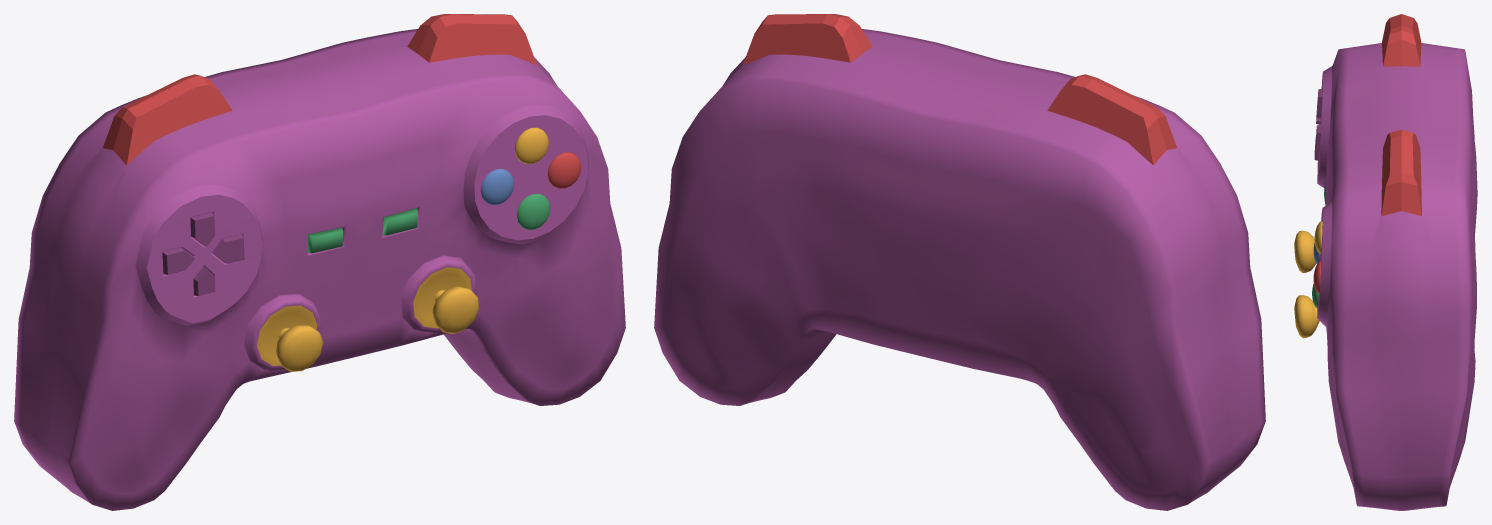
Rendered from game-controller.glb.
3 renders of one model, left to right at view 1: azimuth 30°, elevation 25°; view 2: azimuth 150°, elevation 25°; view 3: azimuth 270°, elevation 25°, orthographic. The views are drawn at different scales.
Parts seen in each view (by area): view 1: game controller; view 2: game controller; view 3: game controller.
Part boxes in pixels (box(x1,y1,x2,y2)): game controller: box(14, 14, 625, 510); game controller: box(654, 14, 1265, 510); game controller: box(1294, 14, 1477, 510).
Bounding box in the file's own units: 4.48 × 3.09 × 1.51.
